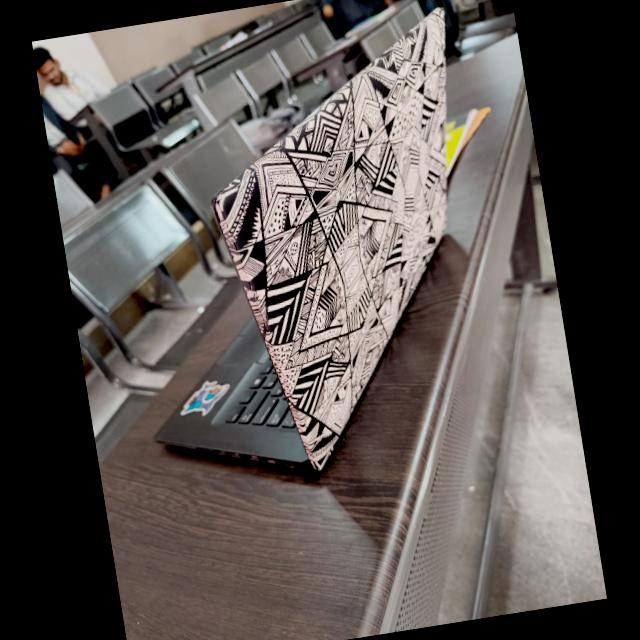laptop: (99, 0, 526, 501)
